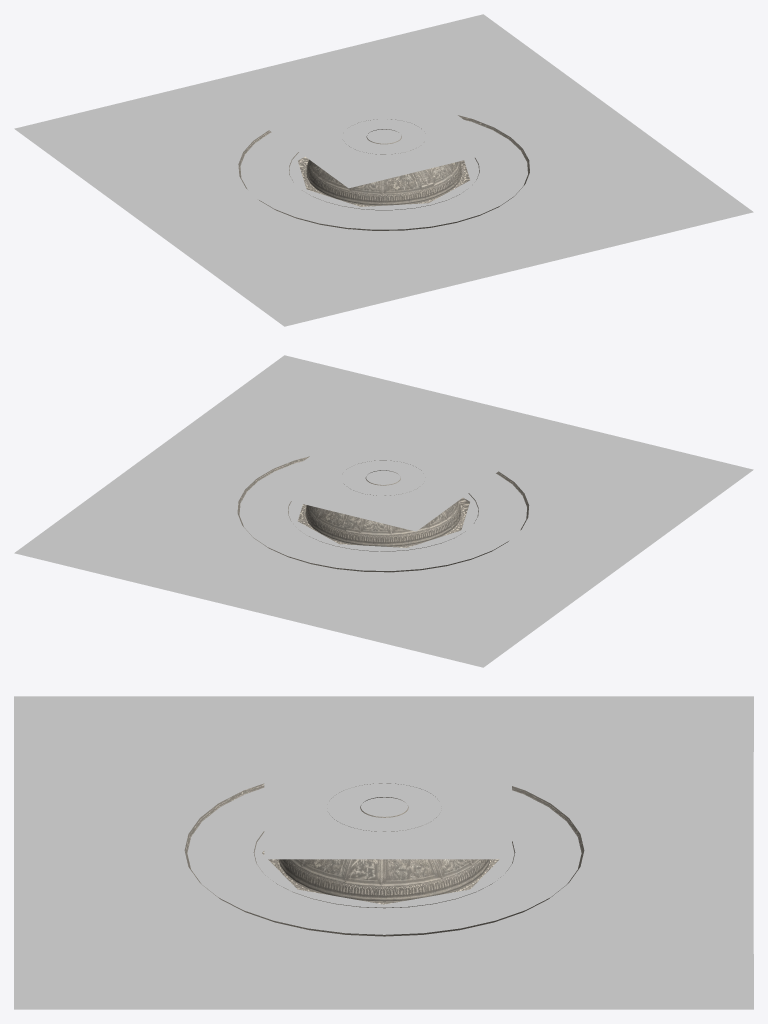
Rendered from CeilingDOMEplain.fbx.
3 views of the same model, one above another, from view 1: azimuth 30°, elevation 25°; view 2: azimuth 150°, elevation 25°; view 3: azimuth 270°, elevation 25° (orthographic). The views are drawn at different scales.
Parts seen in each view (by area): view 1: Plane.001; view 2: Plane.001; view 3: Plane.001.
Boxes of the visible parts, box(x1,y1,x2,y2) form: Plane.001: box(14, 14, 753, 326); Plane.001: box(14, 355, 753, 667); Plane.001: box(14, 696, 753, 1009).
Size of the model in its own units: 1861 by 149 by 1857.
